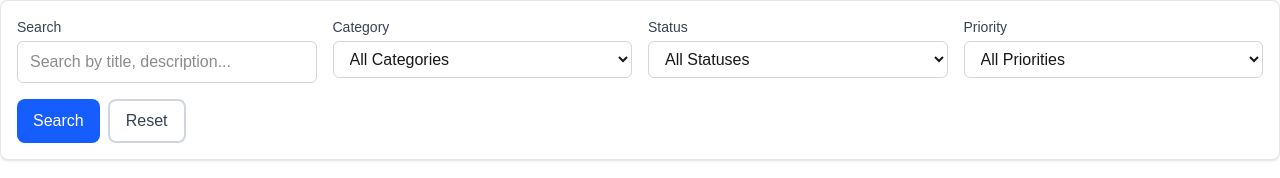
Test case: SearchBar Component › Reset Functionality › clears all fields when reset button is clicked
# Fill all fields
Type "test" into the field labelled "Search". click: (167, 62)
box: [17,41,316,83]
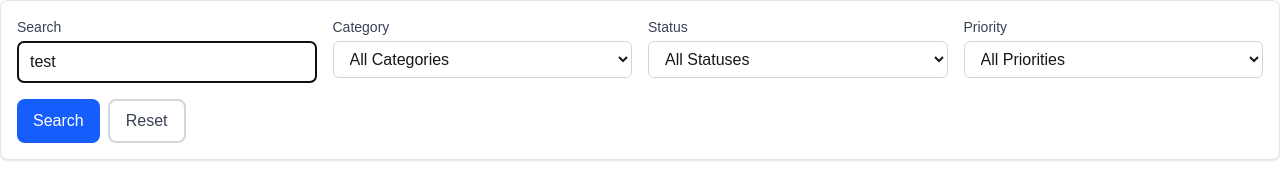
Select "Authentication" in the dropdown labelled "Category". click: (482, 60)
box: [332,41,632,78]
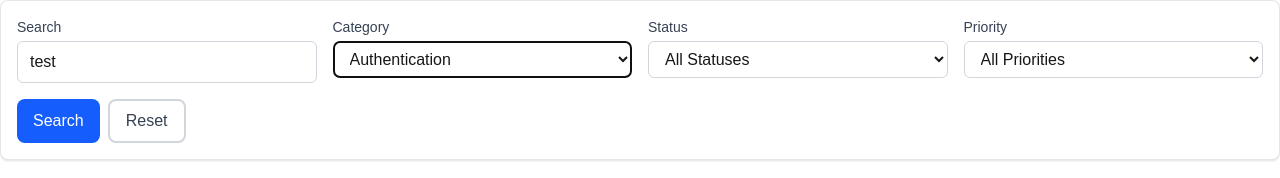
Select "Open" in the dropdown labelled "Status". click: (798, 60)
box: [648,41,948,78]
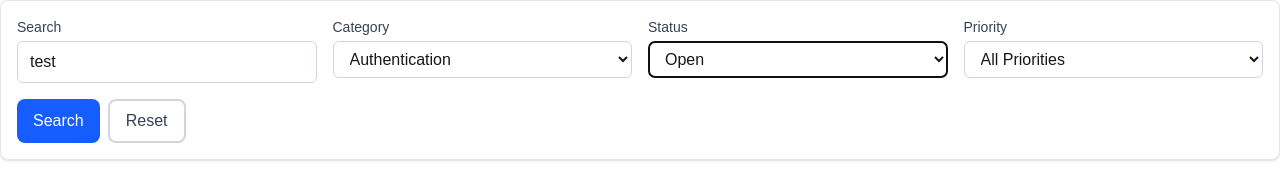
Select "Urgent" in the dropdown labelled "Priority". click: (1113, 60)
box: [964,41,1263,78]
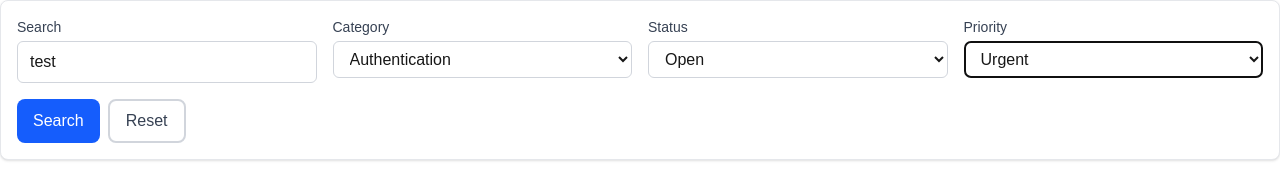
# Click reset
Click the button "Reset". click: click(147, 121)
box: [108,99,186,143]
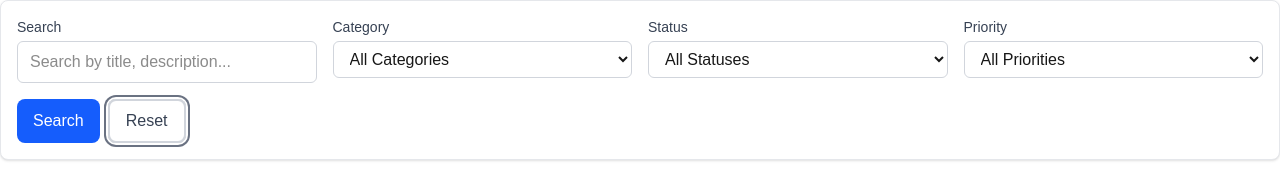
Expected: the field labelled "Search" is empty, [17,41,316,83]
